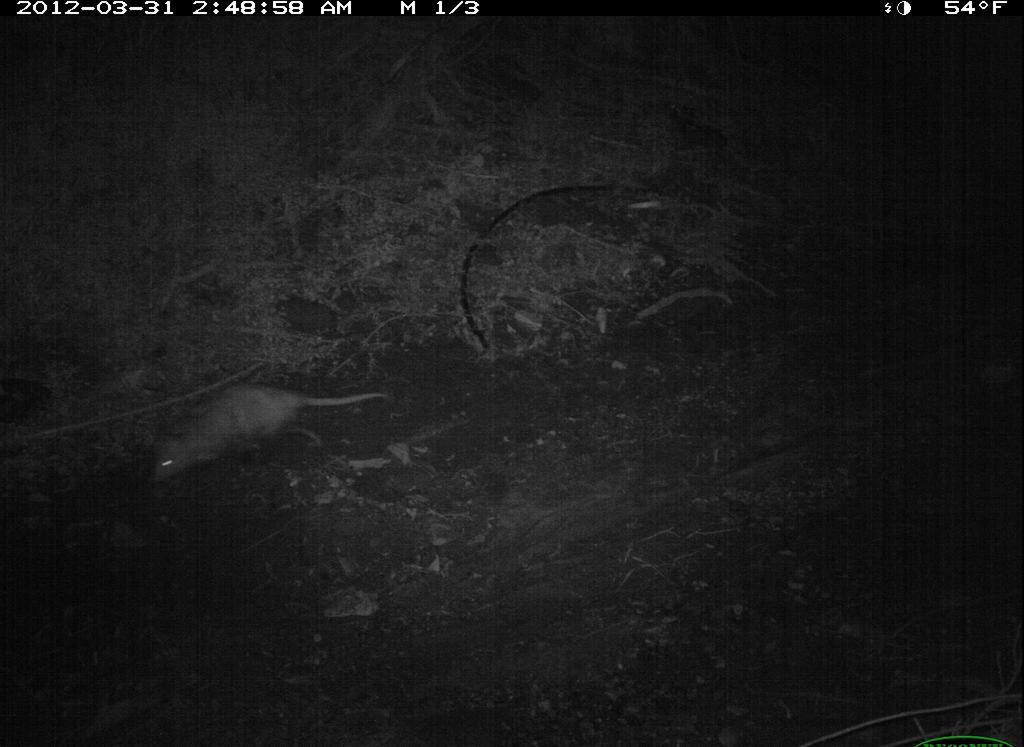opossum: (134, 365, 401, 497)
